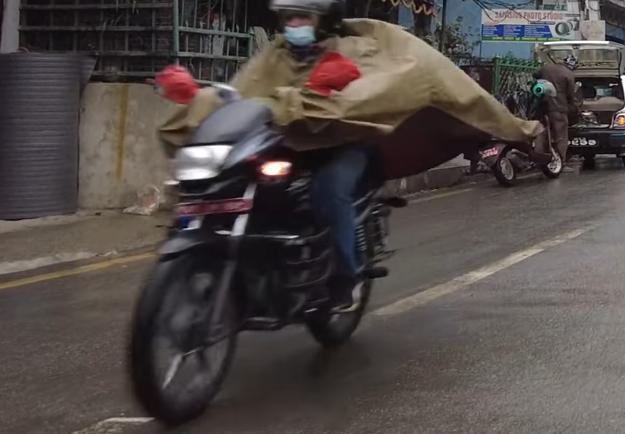bike: (124, 59, 406, 426)
